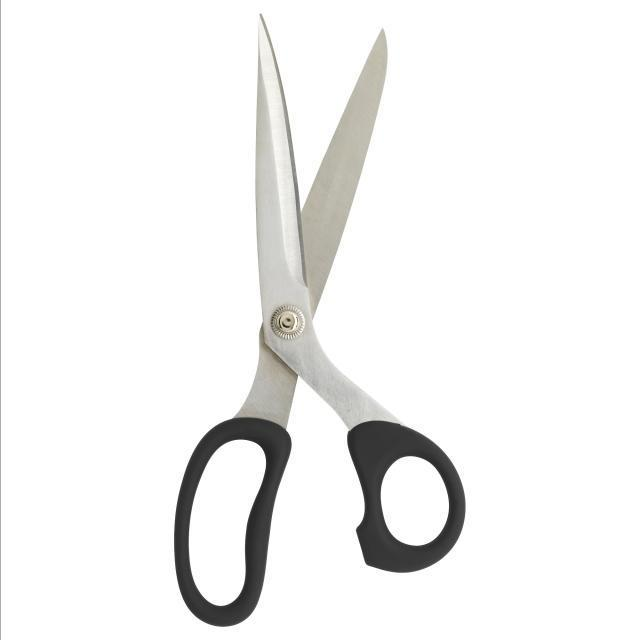scissor: (171, 14, 465, 628)
